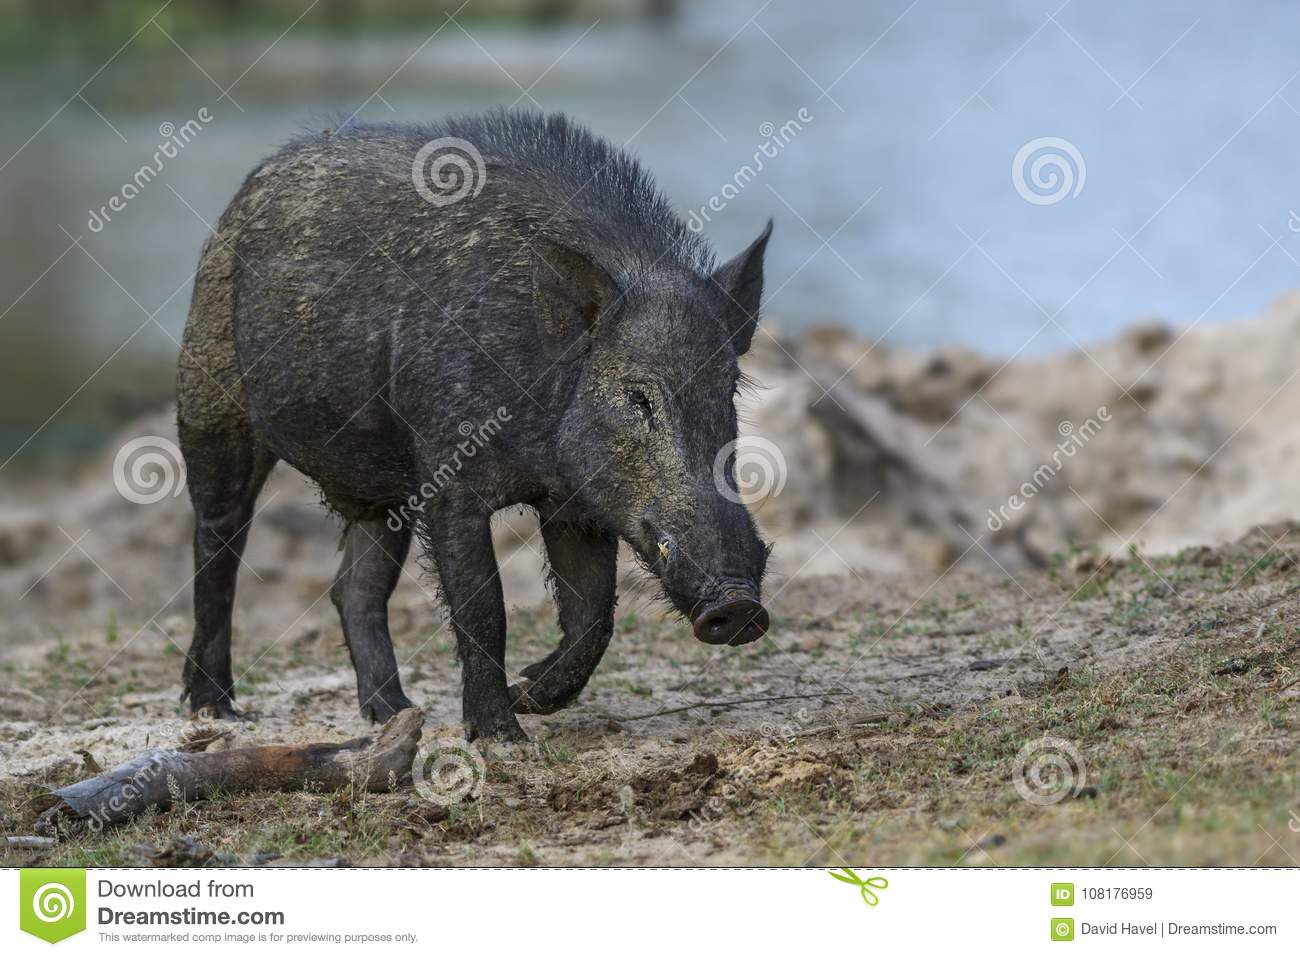wild boar: (148, 96, 790, 762)
